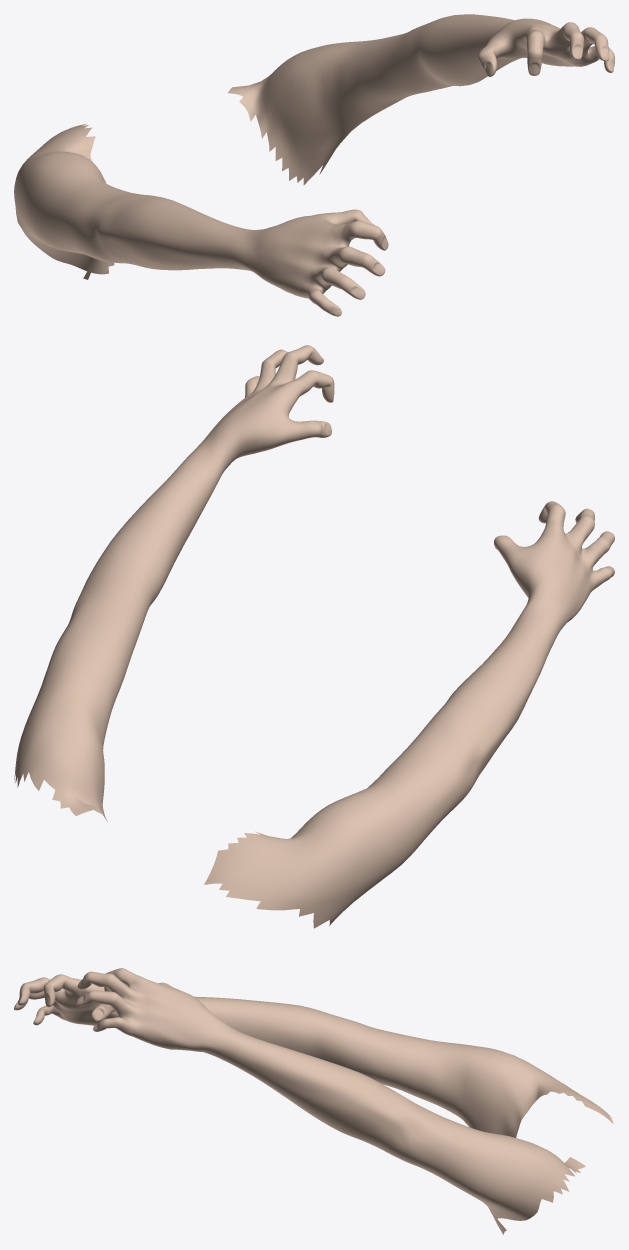
File: Hands.gltf
The picture shows the model from 3 angles, top to bottom: view 1: azimuth 30°, elevation 25°; view 2: azimuth 150°, elevation 25°; view 3: azimuth 270°, elevation 25°; orthographic projection. The views are drawn at different scales.
Visible parts, largest first — view 1: base.obj.sub.001; view 2: base.obj.sub.001; view 3: base.obj.sub.001.
Boxes of the visible parts, bbox=[...] form: base.obj.sub.001: bbox=[14, 14, 614, 316]; base.obj.sub.001: bbox=[14, 345, 614, 928]; base.obj.sub.001: bbox=[14, 968, 613, 1234].
Bounding box in the file's own units: 0.4843 × 0.4344 × 0.7554.
